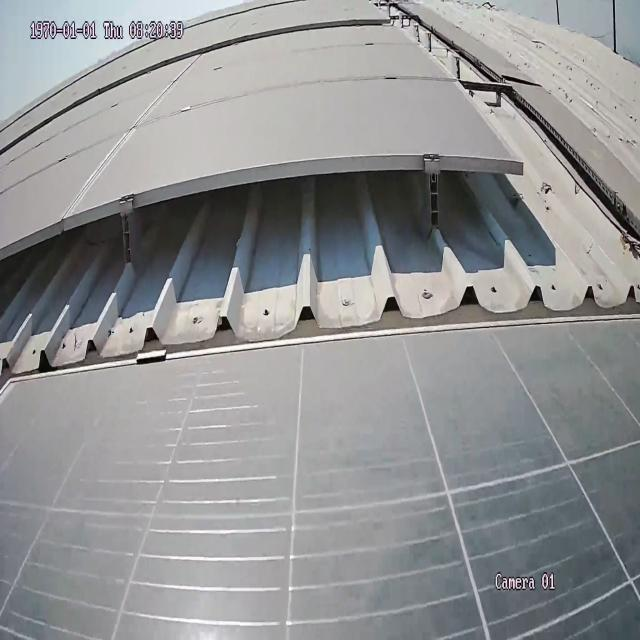interior panel: (65, 65, 186, 202)
